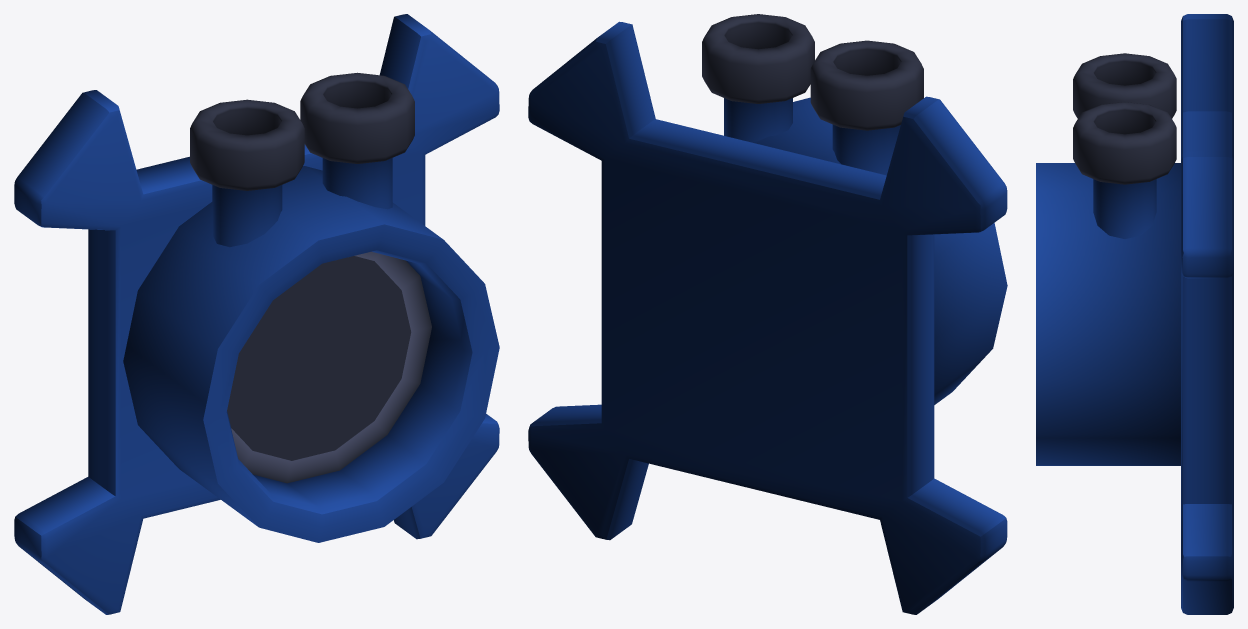
Rendered from Procesor_Cooling_lvl_08_V01.fbx.
3 renders of one model, left to right at view 1: azimuth 30°, elevation 25°; view 2: azimuth 150°, elevation 25°; view 3: azimuth 270°, elevation 25°, orthographic. The views are drawn at different scales.
Visible parts, largest first — view 1: Procesor_Cooling_lvl_08; view 2: Procesor_Cooling_lvl_08; view 3: Procesor_Cooling_lvl_08.
Boxes of the visible parts, left/top/right/bottom form: Procesor_Cooling_lvl_08: left=14, top=14, right=499, bottom=614; Procesor_Cooling_lvl_08: left=528, top=14, right=1007, bottom=614; Procesor_Cooling_lvl_08: left=1036, top=14, right=1233, bottom=614.
Size of the model in its own units: 44.66 by 46.75 by 18.29.
